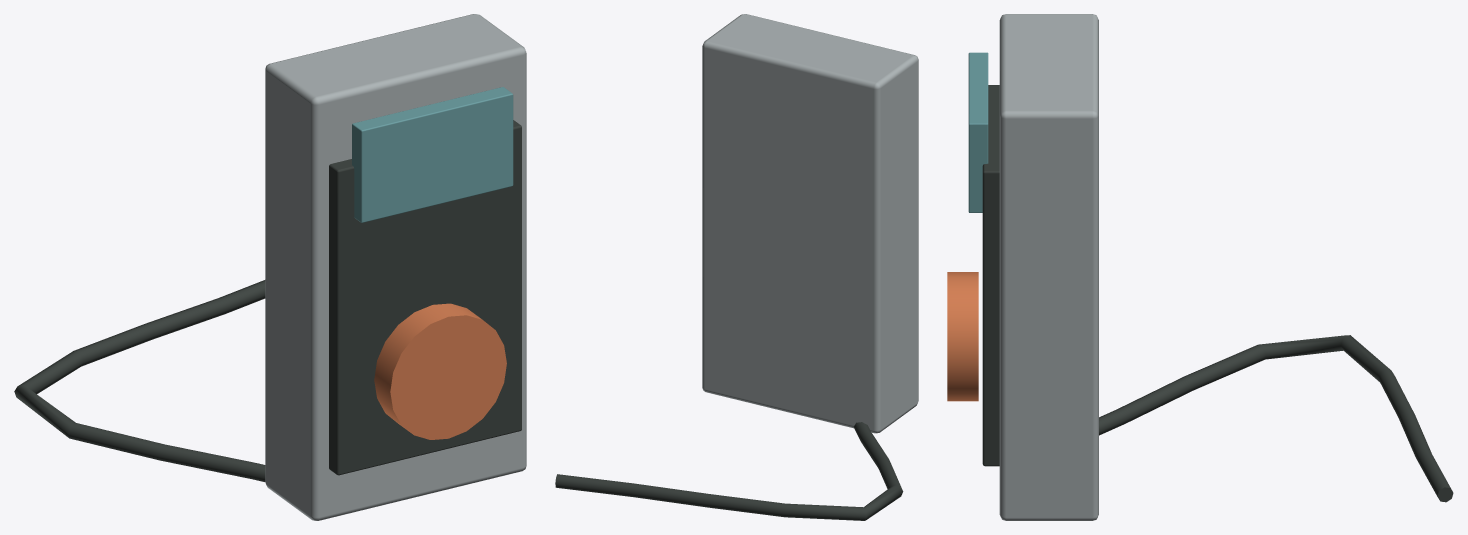
File: research-and-crafting-progression-multimeter-33ad11d6__2875.glb
3 views of the same model, side by side, from view 1: azimuth 30°, elevation 25°; view 2: azimuth 150°, elevation 25°; view 3: azimuth 270°, elevation 25° (orthographic). The views are drawn at different scales.
Visible parts, largest first — view 1: multimeter; view 2: multimeter; view 3: multimeter.
Boxes of the visible parts, bbox=[...] form: multimeter: bbox=[14, 14, 526, 520]; multimeter: bbox=[555, 14, 918, 520]; multimeter: bbox=[947, 14, 1453, 520].
Bounding box in the file's own units: 0.1311 × 0.163 × 0.1788.
